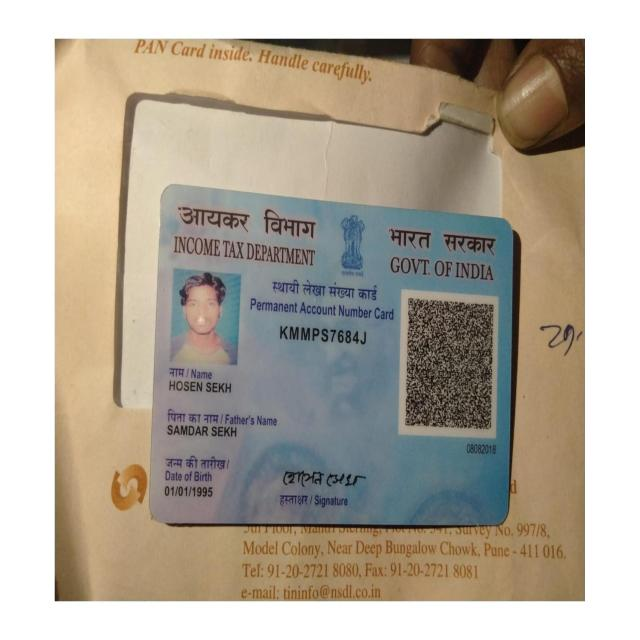pan_card: (154, 186, 512, 523)
